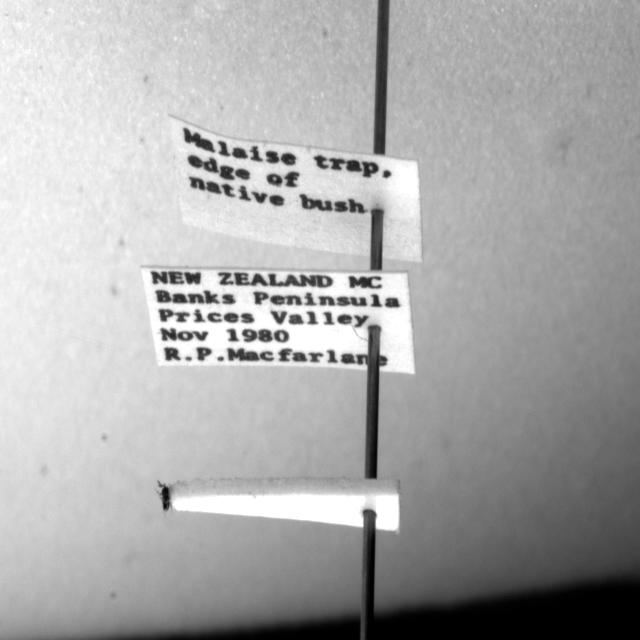typed_label: (170, 116, 422, 262), (141, 268, 415, 373)
